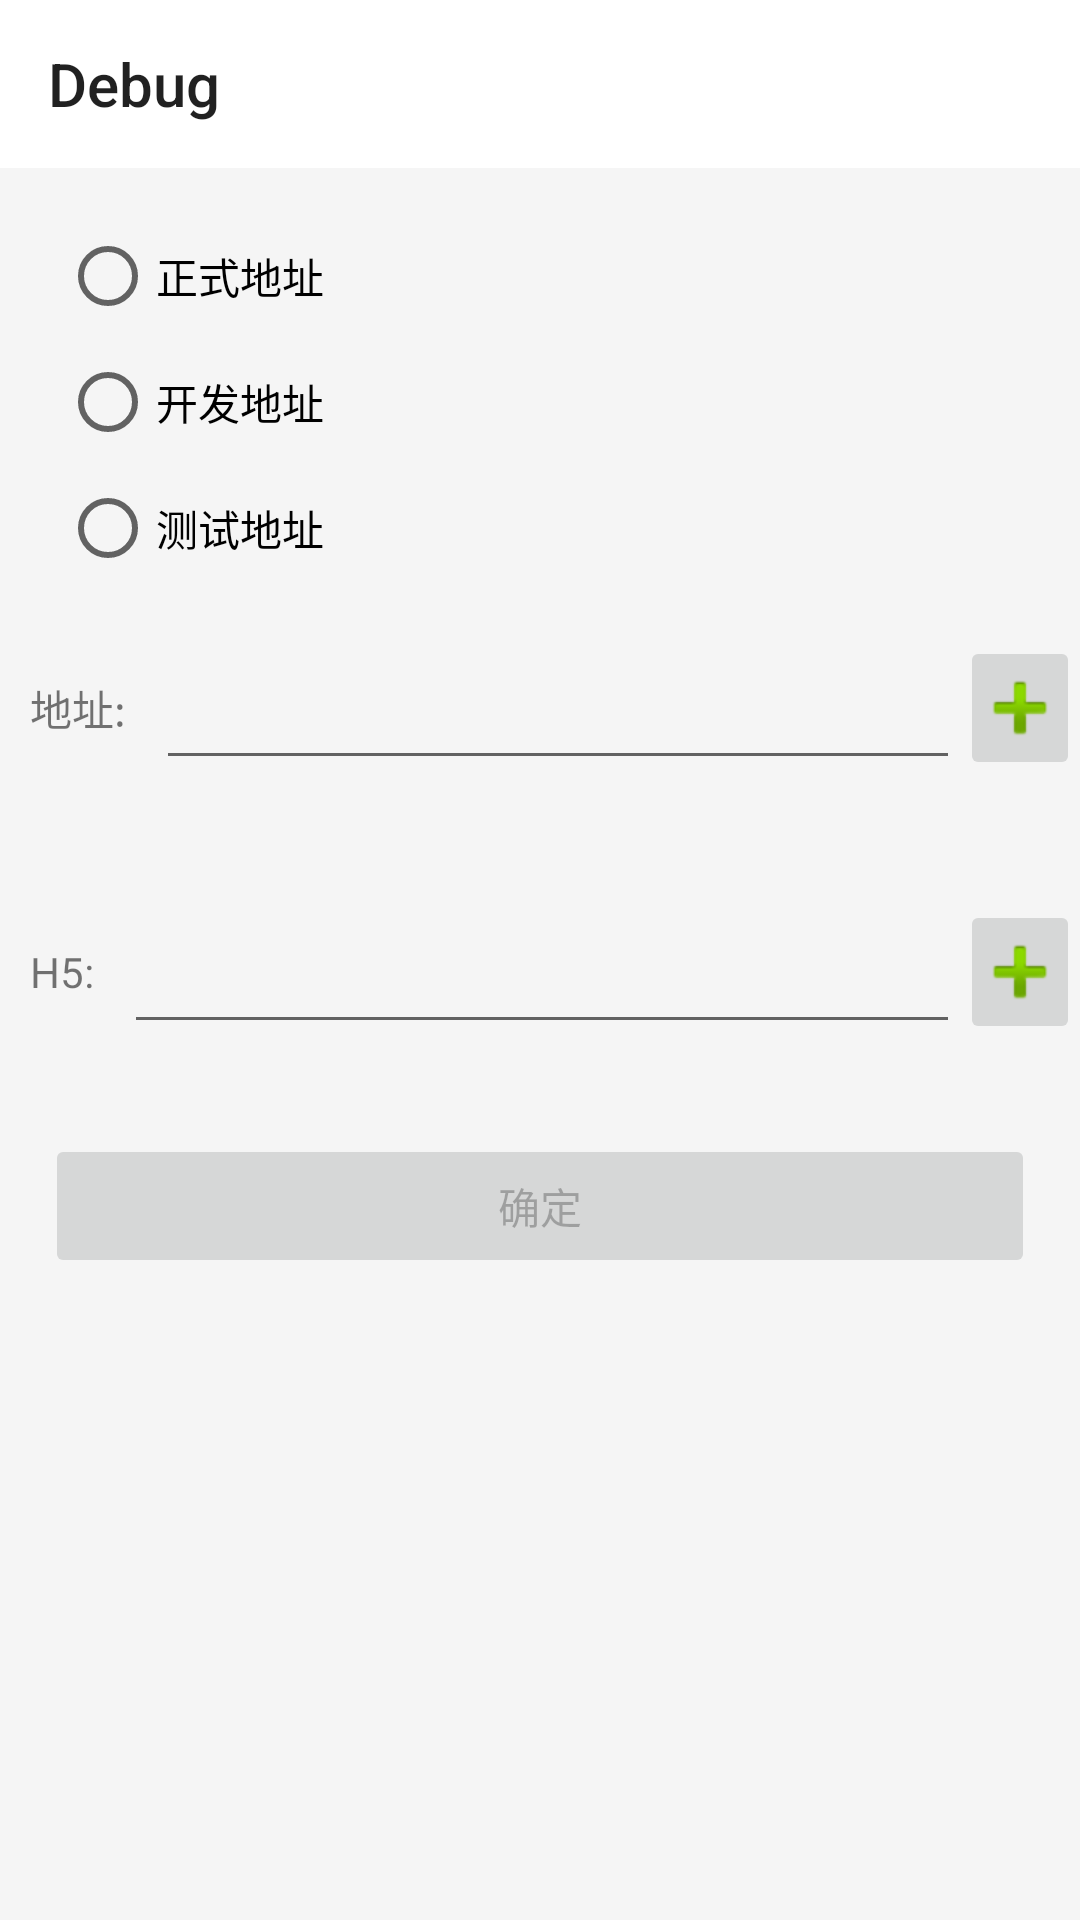

Icons on this 1080px x 1920px Android screen, each with its box as (x1, y1, x2, y2):
add: (972, 654, 1068, 762), (972, 918, 1068, 1026)
